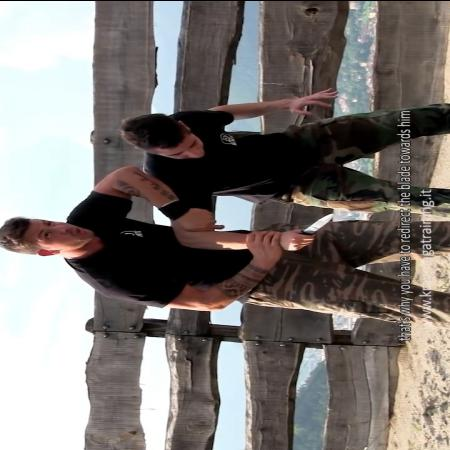long weapon: (282, 209, 340, 250)
